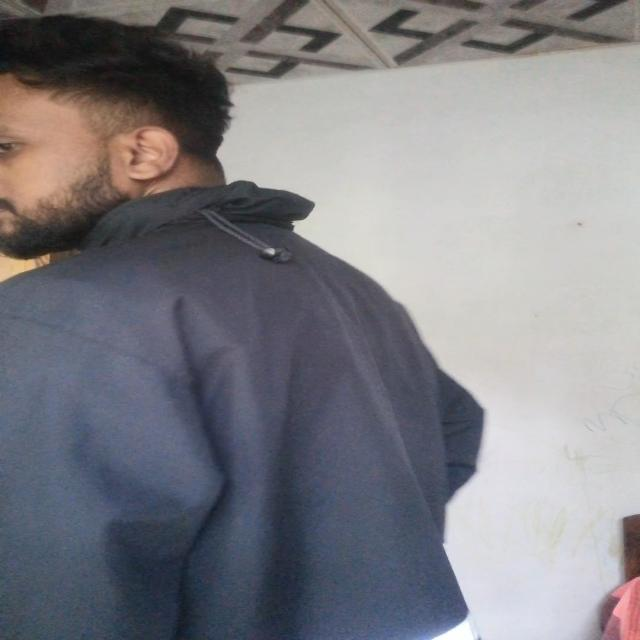Jacket_Wearer: (0, 185, 486, 640)
